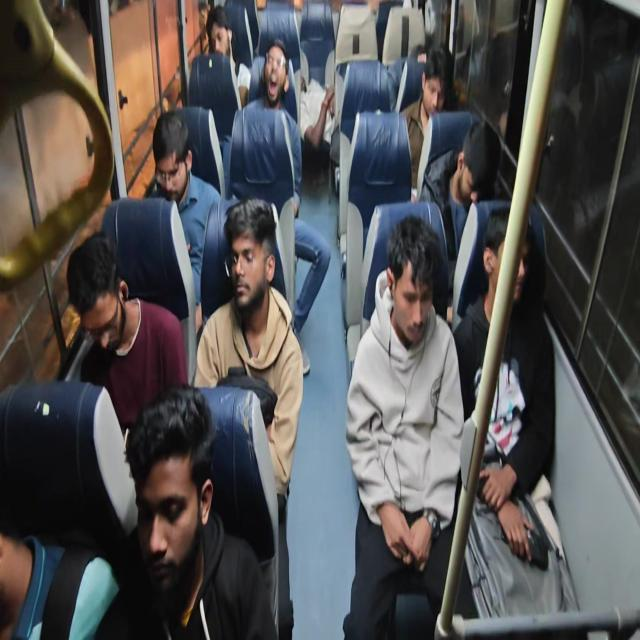person: (117, 383, 242, 623), (51, 217, 134, 364), (368, 226, 449, 352), (0, 454, 52, 640), (436, 85, 502, 213), (225, 208, 285, 340), (476, 225, 546, 337), (154, 105, 212, 222), (292, 70, 340, 174), (410, 43, 450, 128), (213, 14, 249, 88), (270, 42, 290, 118), (403, 29, 428, 77)
